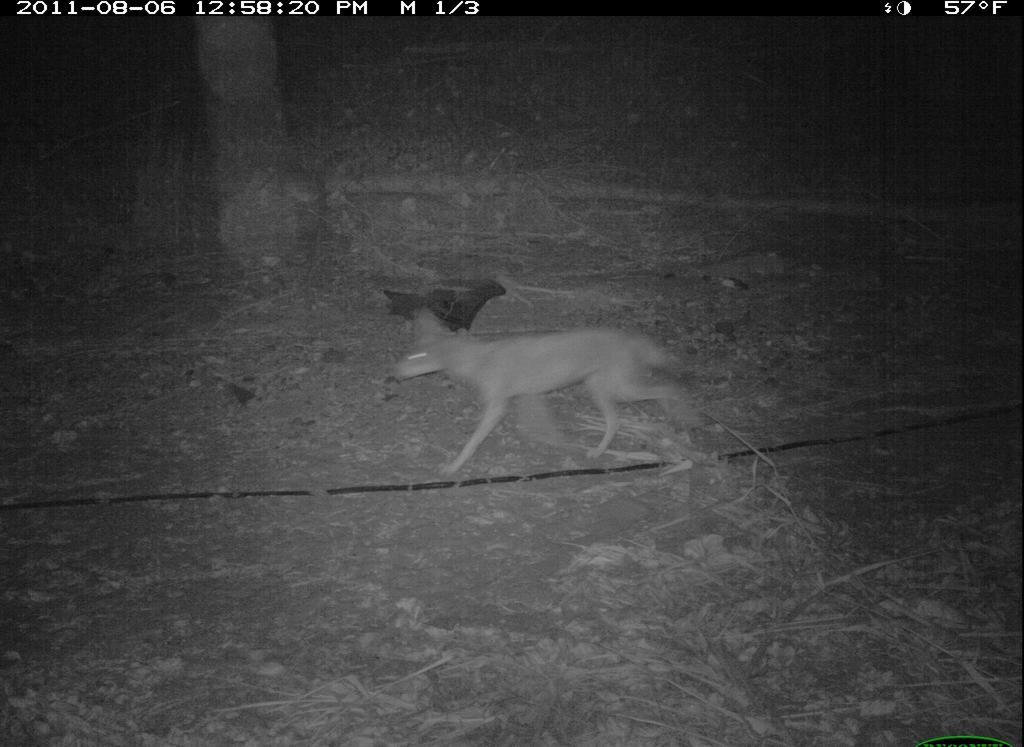coyote: (388, 301, 716, 489)
